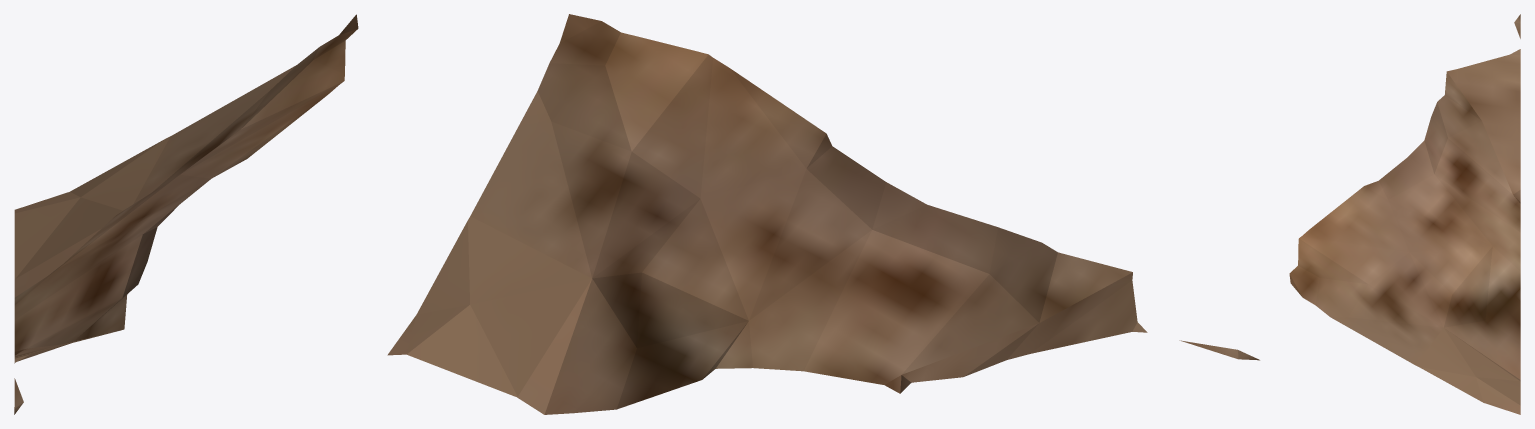
3 renders of one model, left to right at view 1: azimuth 90°, elevation 25°; view 2: azimuth 150°, elevation 25°; view 3: azimuth 270°, elevation 25°, orthographic. The views are drawn at different scales.
Bounding box in the file's own units: 0.2106 × 0.0529 × 0.0763.
1 material, 1 textured.
